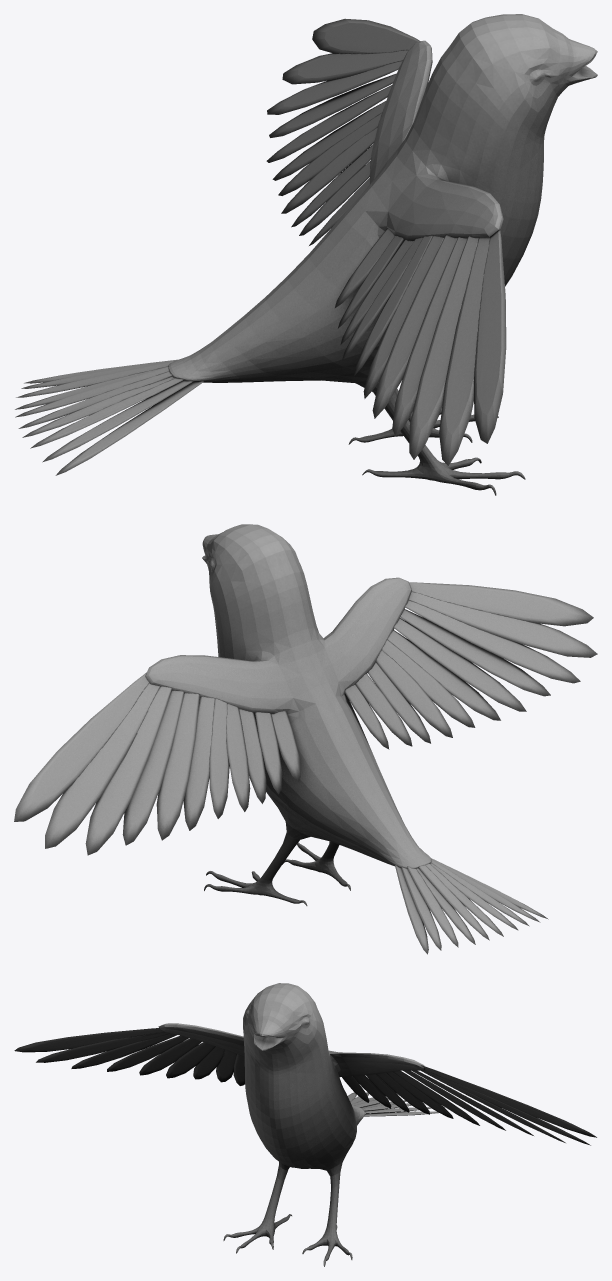
File: BirdRender_obj.obj
The picture shows the model from 3 angles, top to bottom: view 1: azimuth 30°, elevation 25°; view 2: azimuth 150°, elevation 25°; view 3: azimuth 270°, elevation 25°; orthographic projection. The views are drawn at different scales.
Visible parts, largest first — view 1: Cube.001_Cube.002; view 2: Cube.001_Cube.002; view 3: Cube.001_Cube.002.
Boxes of the visible parts, x1,y1,x2,y2 form: Cube.001_Cube.002: [15, 14, 597, 495]; Cube.001_Cube.002: [14, 524, 597, 954]; Cube.001_Cube.002: [14, 983, 596, 1266].
Bounding box in the file's own units: 1.88 × 1.56 × 3.04.
